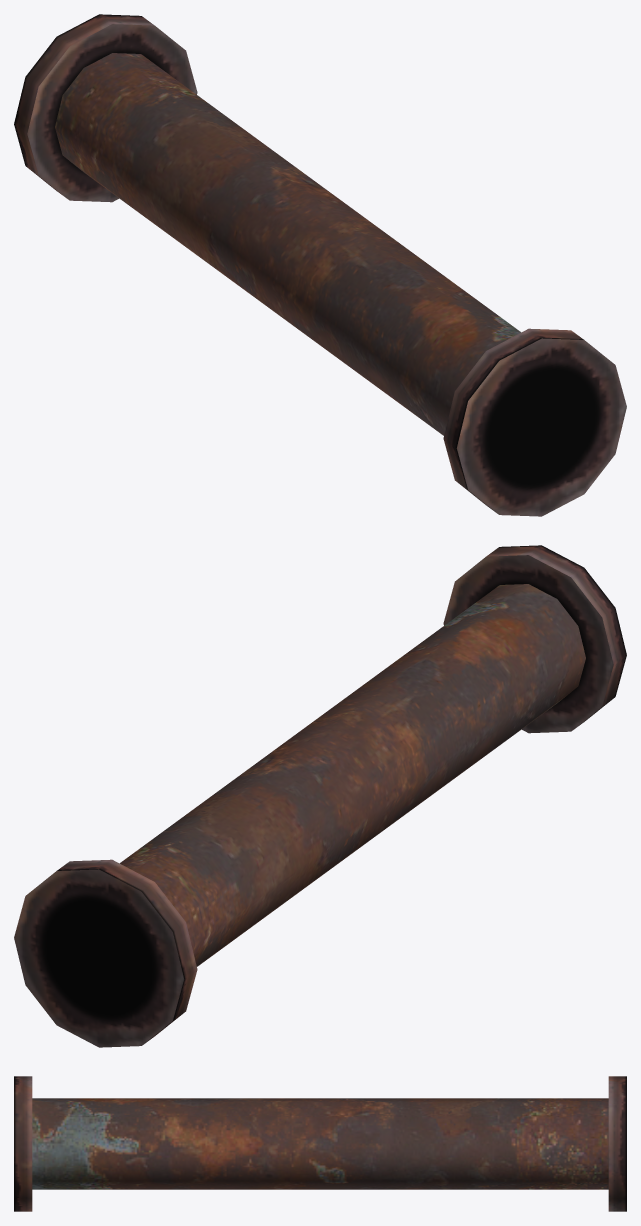
The model's file is pipe01_100cm.fbx.
The picture shows the model from 3 angles, top to bottom: view 1: azimuth 30°, elevation 25°; view 2: azimuth 150°, elevation 25°; view 3: azimuth 270°, elevation 25°; orthographic projection. The views are drawn at different scales.
Parts seen in each view (by area): view 1: pipe01_100cm; view 2: pipe01_100cm; view 3: pipe01_100cm.
Boxes of the visible parts, box(x1,y1,x2,y2) form: pipe01_100cm: box(14, 14, 626, 516); pipe01_100cm: box(14, 545, 626, 1047); pipe01_100cm: box(14, 1076, 626, 1211).
Size of the model in its own units: 22.2 by 22.2 by 100.
